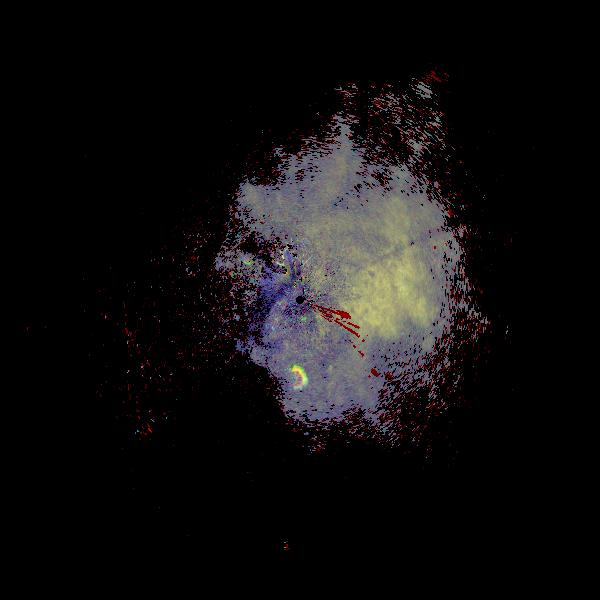roost: (283, 364, 310, 391)
